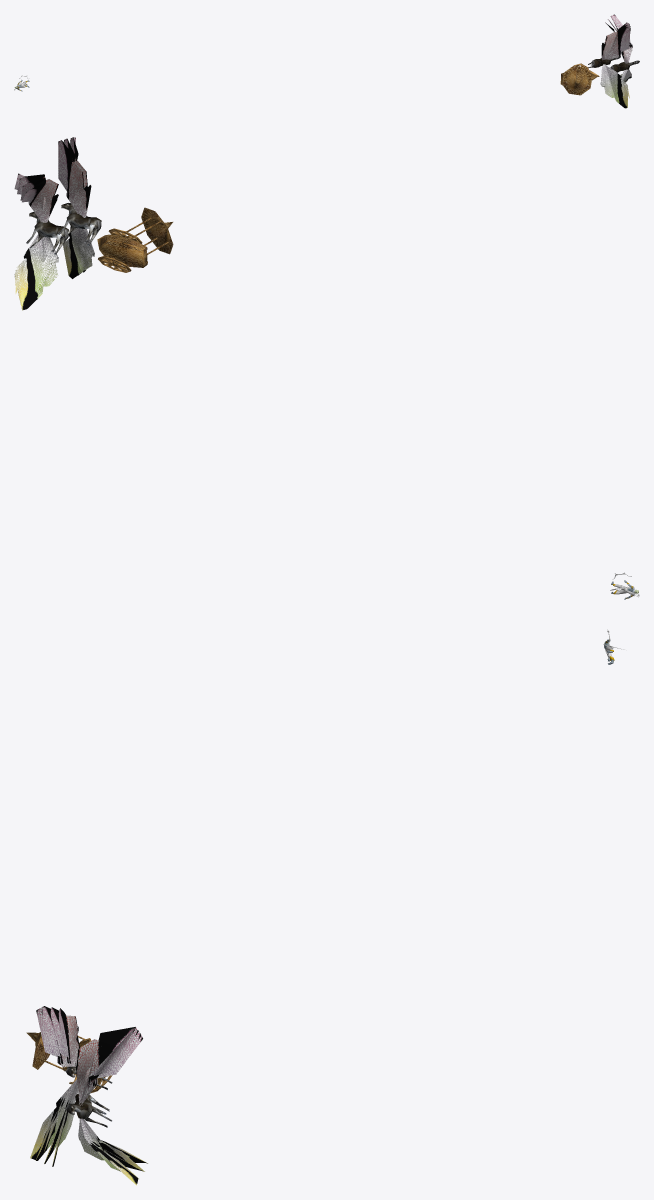
Rendered from rama_001008.obj.
The picture shows the model from 3 angles, top to bottom: view 1: azimuth 30°, elevation 25°; view 2: azimuth 150°, elevation 25°; view 3: azimuth 270°, elevation 25°; orthographic projection. The views are drawn at different scales.
Parts seen in each view (by area): view 1: wings_Plane.001, umbrella_Sphere, wings.001_Plane.000, Horse.000_objHorse_0.005, Horse.001_objHorse_0.006; view 2: wings.001_Plane.000, wings_Plane.001, chariot_Cube.001, umbrella_Sphere, Horse.001_objHorse_0.006, Horse.000_objHorse_0.005; view 3: wings.001_Plane.000, wings_Plane.001.
Part boxes in pixels (left/top/right/bottom): wings_Plane.001: left=600, top=22, right=630, bottom=108; umbrella_Sphere: left=562, top=65, right=592, bottom=95; wings.001_Plane.000: left=603, top=14, right=632, bottom=86; Horse.000_objHorse_0.005: left=610, top=60, right=639, bottom=72; Horse.001_objHorse_0.006: left=588, top=56, right=620, bottom=67; wings.001_Plane.000: left=14, top=173, right=58, bottom=310; wings_Plane.001: left=58, top=137, right=94, bottom=278; chariot_Cube.001: left=97, top=234, right=147, bottom=267; umbrella_Sphere: left=113, top=207, right=173, bottom=264; Horse.001_objHorse_0.006: left=57, top=203, right=101, bottom=245; Horse.000_objHorse_0.005: left=26, top=212, right=68, bottom=254; wings.001_Plane.000: left=75, top=1027, right=148, bottom=1185; wings_Plane.001: left=30, top=1006, right=79, bottom=1166.
Size of the model in its own units: 85.38 by 14.42 by 45.21.
